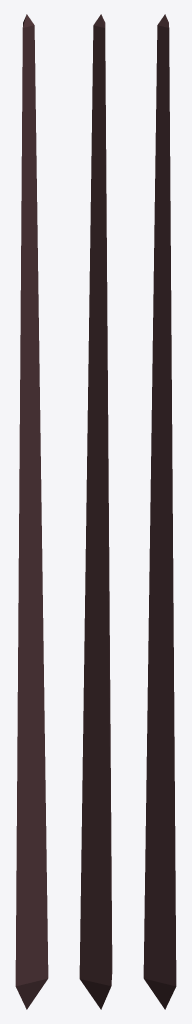
The model's file is seconds.glb.
The picture shows the model from 3 angles, left to right: view 1: azimuth 30°, elevation 25°; view 2: azimuth 210°, elevation 25°; view 3: azimuth 330°, elevation 25°; orthographic projection.
Parts seen in each view (by area): view 1: Sphere.001; view 2: Sphere.001; view 3: Sphere.001.
Part boxes in pixels (left/top/right/bottom): Sphere.001: left=15, top=14, right=48, bottom=1009; Sphere.001: left=79, top=14, right=112, bottom=1009; Sphere.001: left=143, top=14, right=176, bottom=1009.
Size of the model in its own units: 0.3134 by 9.11 by 0.2568.
